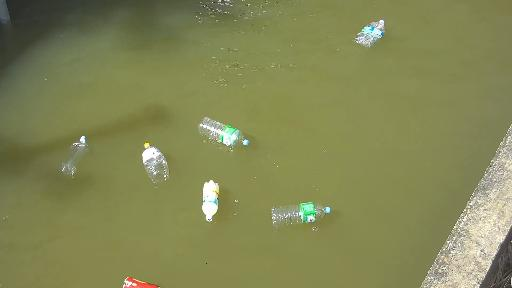plastic: (200, 111, 258, 147), (140, 144, 181, 191), (280, 202, 361, 222), (198, 184, 227, 228), (66, 136, 93, 179), (353, 18, 386, 46), (121, 268, 150, 288)
